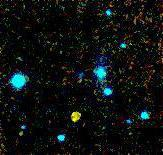star: (59, 101, 89, 131)
